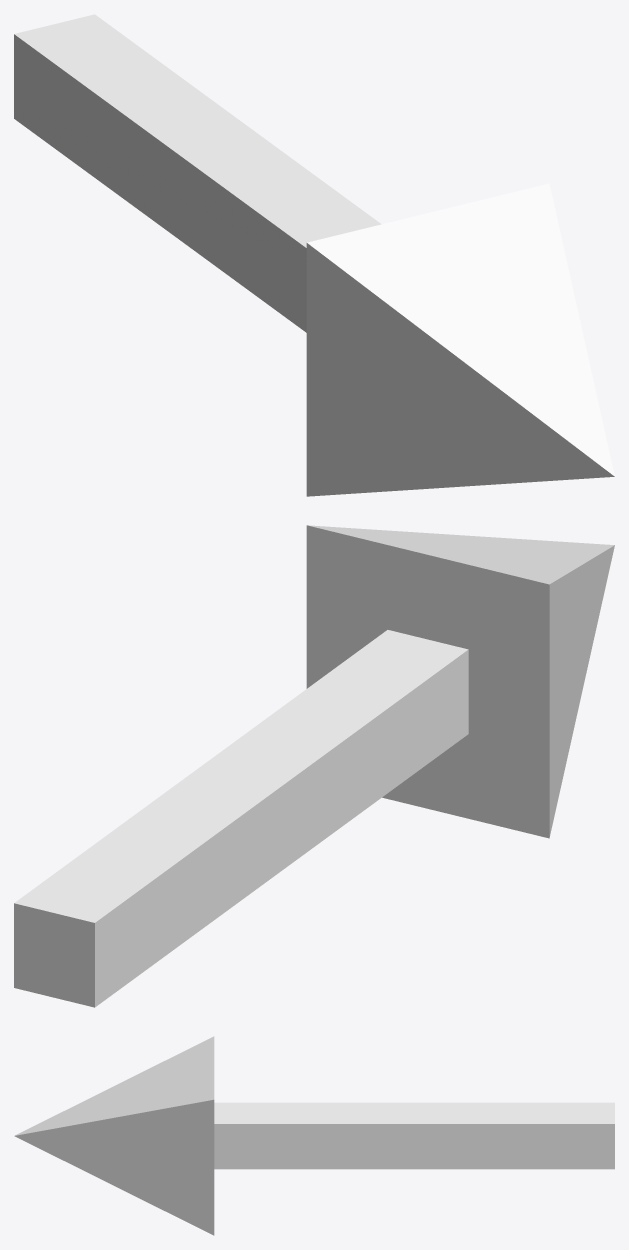
File: peaarrow.obj
3 views of the same model, one above another, from view 1: azimuth 30°, elevation 25°; view 2: azimuth 150°, elevation 25°; view 3: azimuth 270°, elevation 25° (orthographic). The views are drawn at different scales.
Parts seen in each view (by area): view 1: pyramid, cuboid; view 2: cuboid, pyramid; view 3: cuboid, pyramid.
Part boxes in pixels (x1,y1,x2,y2): pyramid: (306, 183, 614, 496); cuboid: (14, 14, 381, 332); cuboid: (14, 630, 468, 1007); pyramid: (306, 525, 614, 838); cuboid: (214, 1102, 614, 1169); pyramid: (14, 1036, 214, 1235).
Bounding box in the file's own units: 0.375 × 0.375 × 1.5.
1 material, 1 textured.
